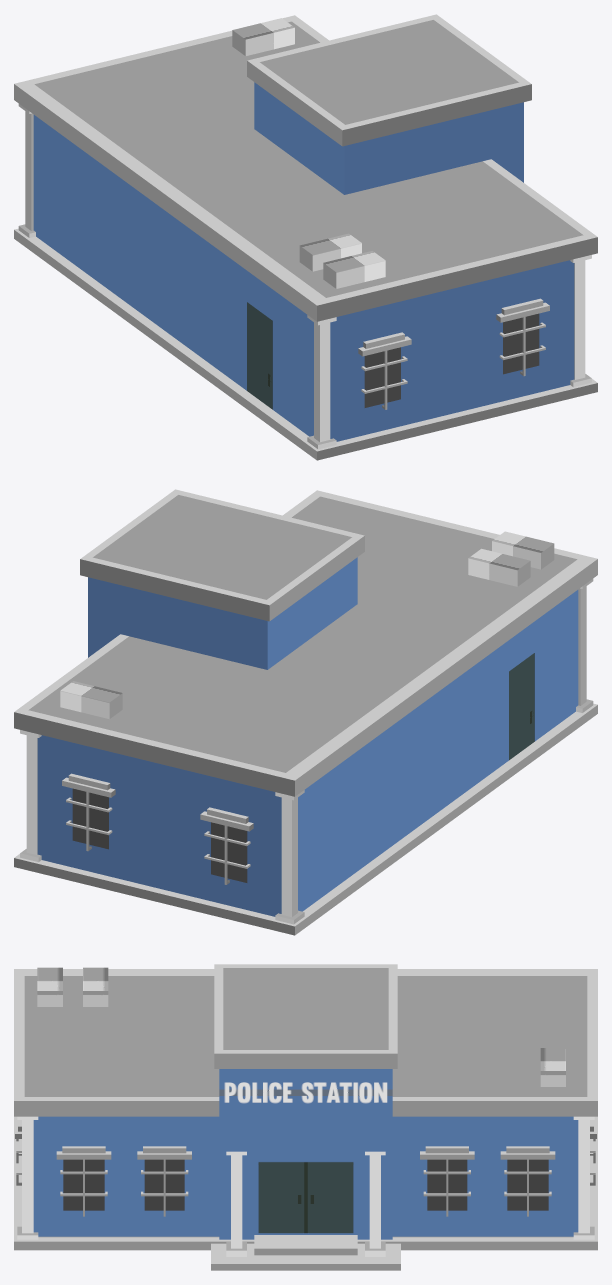
The model's file is police_station.glb.
3 renders of one model, top to bottom at view 1: azimuth 30°, elevation 25°; view 2: azimuth 150°, elevation 25°; view 3: azimuth 270°, elevation 25°, orthographic. The views are drawn at different scales.
Parts seen in each view (by area): view 1: police_station_mesh; view 2: police_station_mesh; view 3: police_station_mesh.
Part boxes in pixels (x1,y1,x2,y2): police_station_mesh: (14,14,597,460); police_station_mesh: (14,489,597,935); police_station_mesh: (14,964,597,1270).
Size of the model in its own units: 0.15 by 0.0986 by 0.2431.
1 material, 1 textured.
